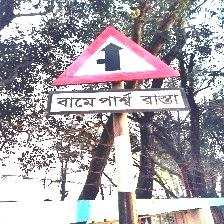Side-road-left: (48, 24, 190, 116)
